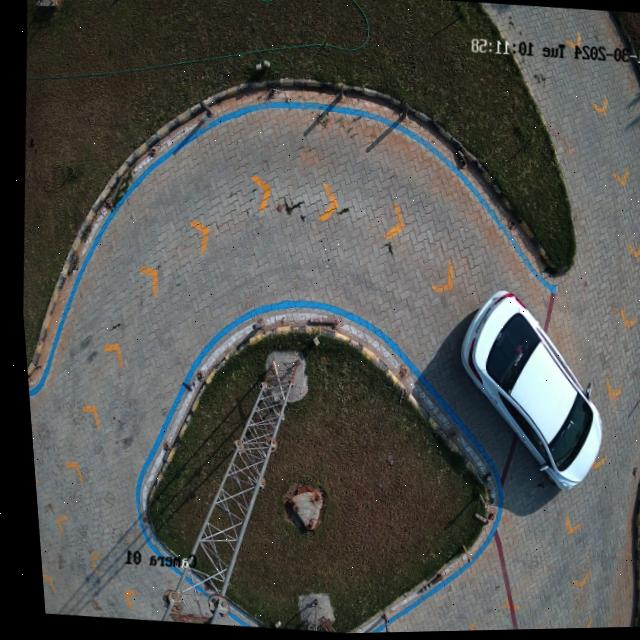car: (455, 292, 595, 492)
